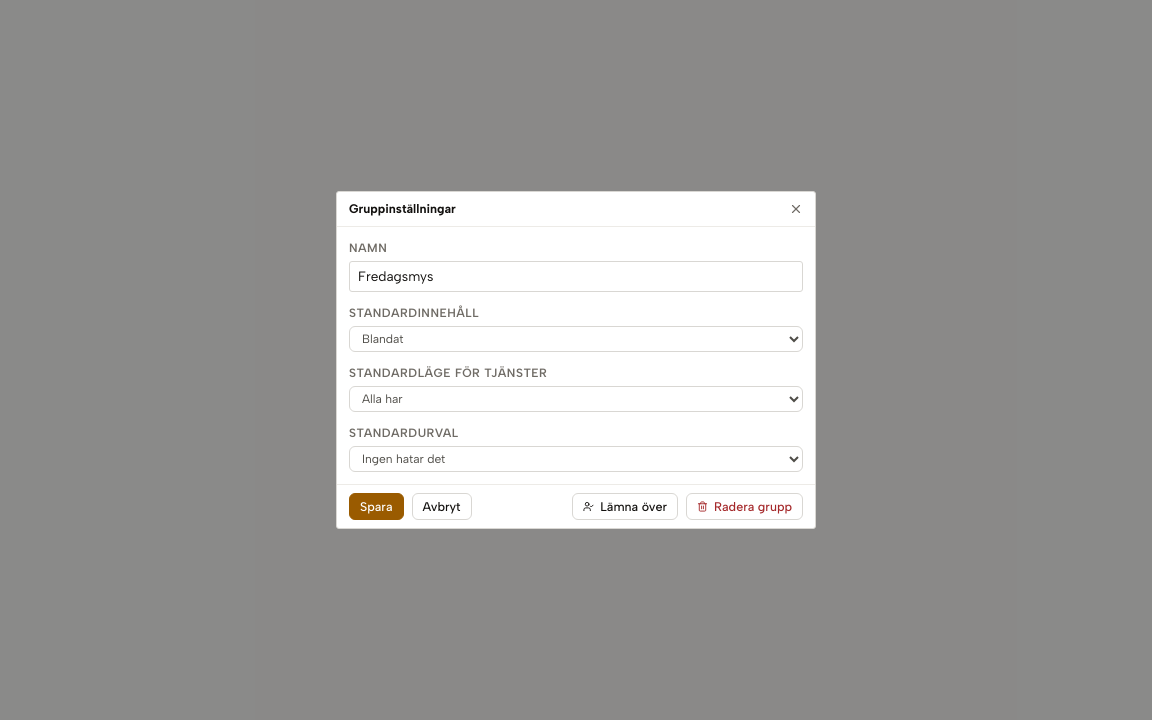
Test: GroupSettingsModal — överlämningen (BIN-1118) › erbjuder varje medlem UTOM ägaren som efterträdare
Click the button "Lämna över": (625, 507) [572,493,678,520]
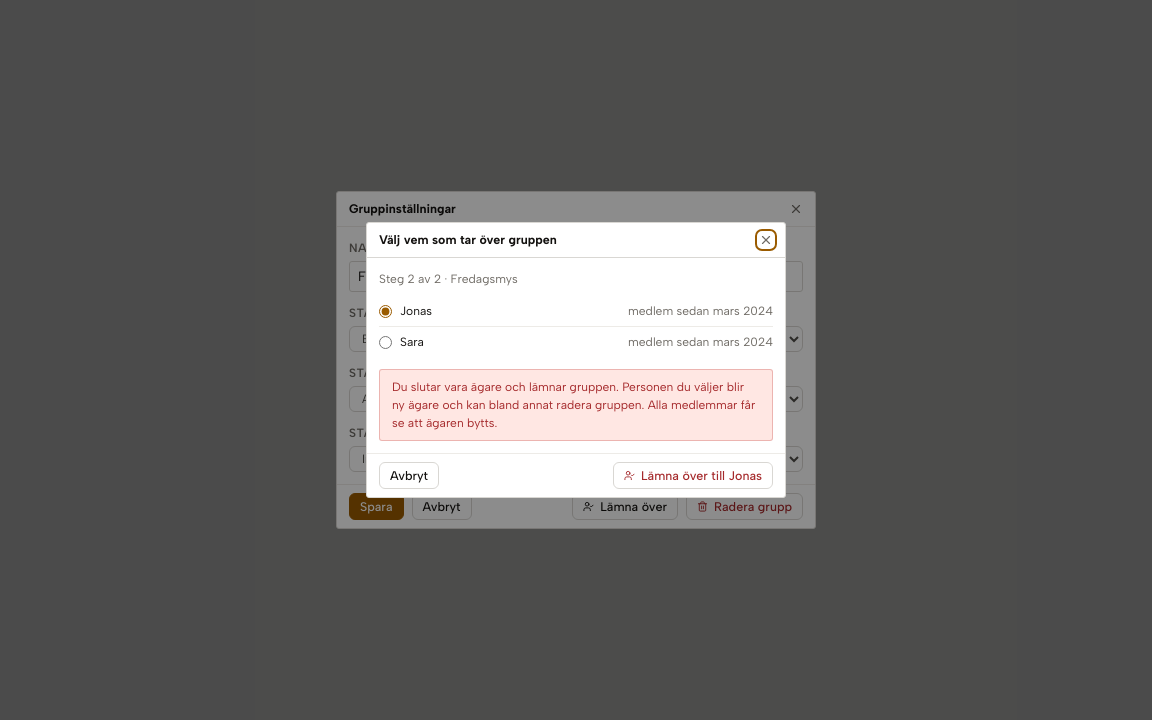
Result: the dialog "tar över gruppen" shows "Jonas" at [400,304,432,318]
Result: the dialog "tar över gruppen" shows "Sara" at [400,335,424,349]
